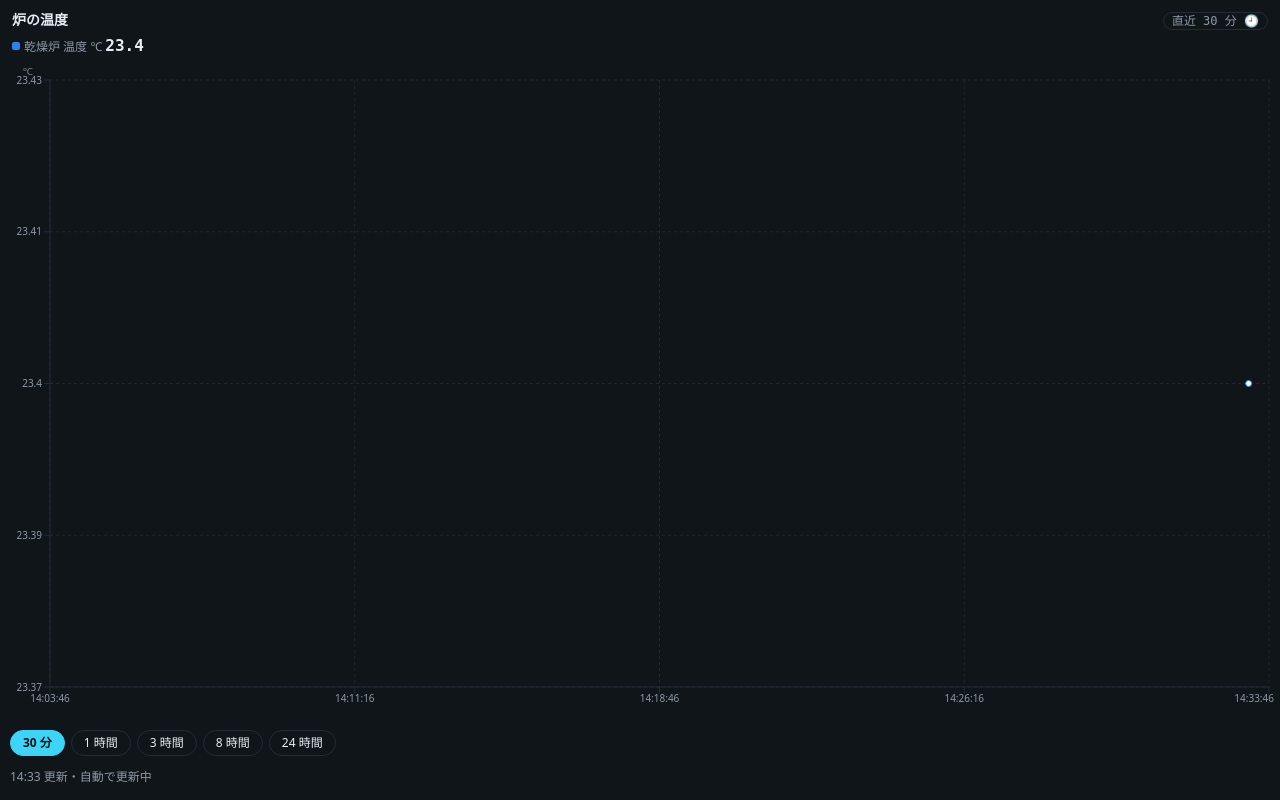
Scenario: GraphLinkView › 時刻の指定の近道で移っても保存しない（localStorage・URL・ダッシュボードの期間はそのまま）
Click the button with aria-label "時刻を指定".
click(1215, 21)  # box [1163,12,1268,30]
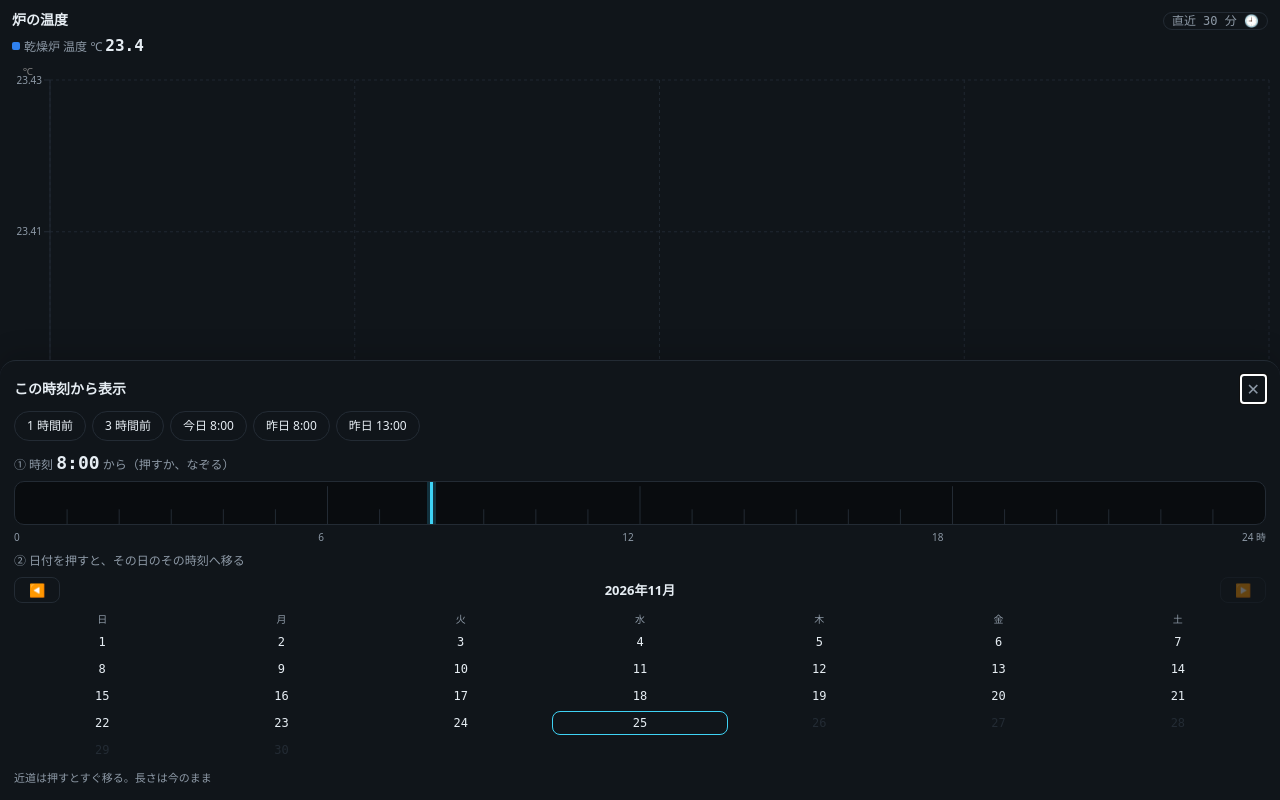
Click the button "3 時間前".
click(128, 426)  # box [92,411,164,441]
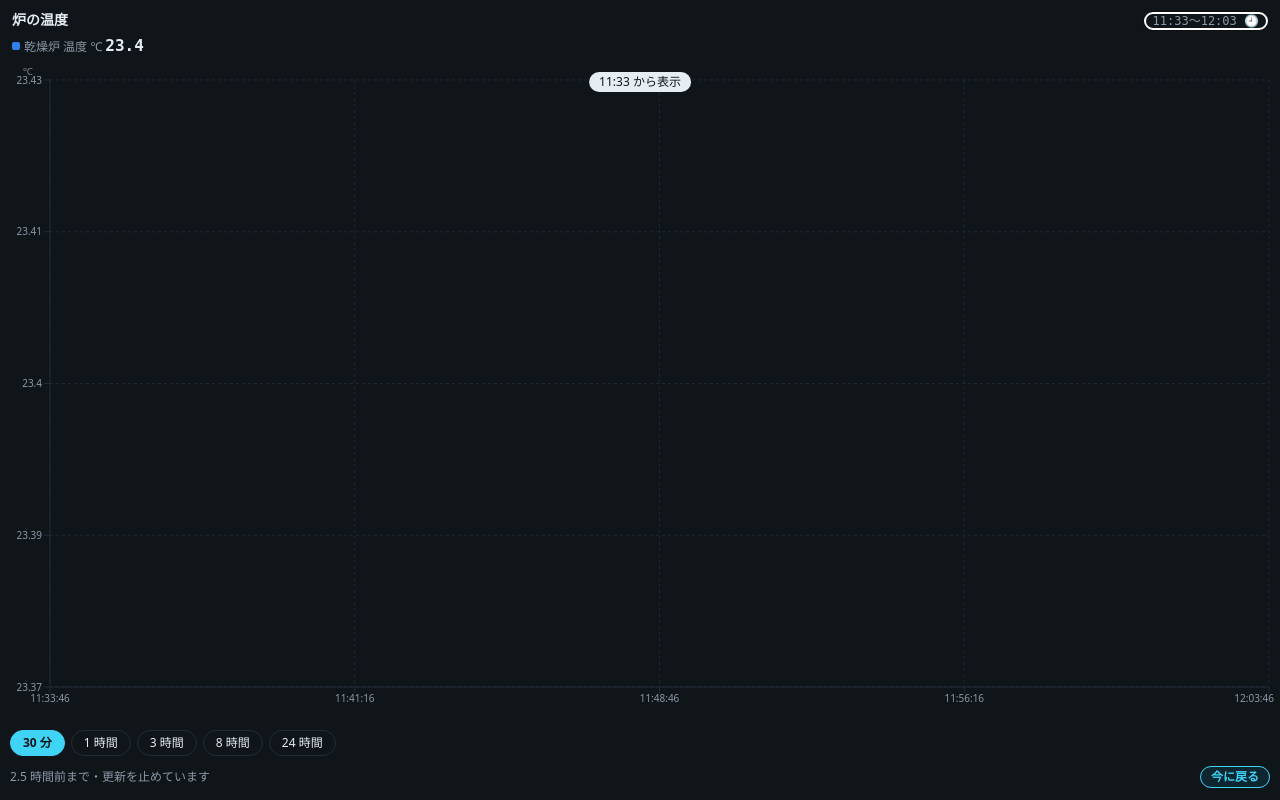
Now the button named "時刻を指定" no longer shows "直近", box [1144,12,1268,30]
Now the text "この時刻から表示" is gone
